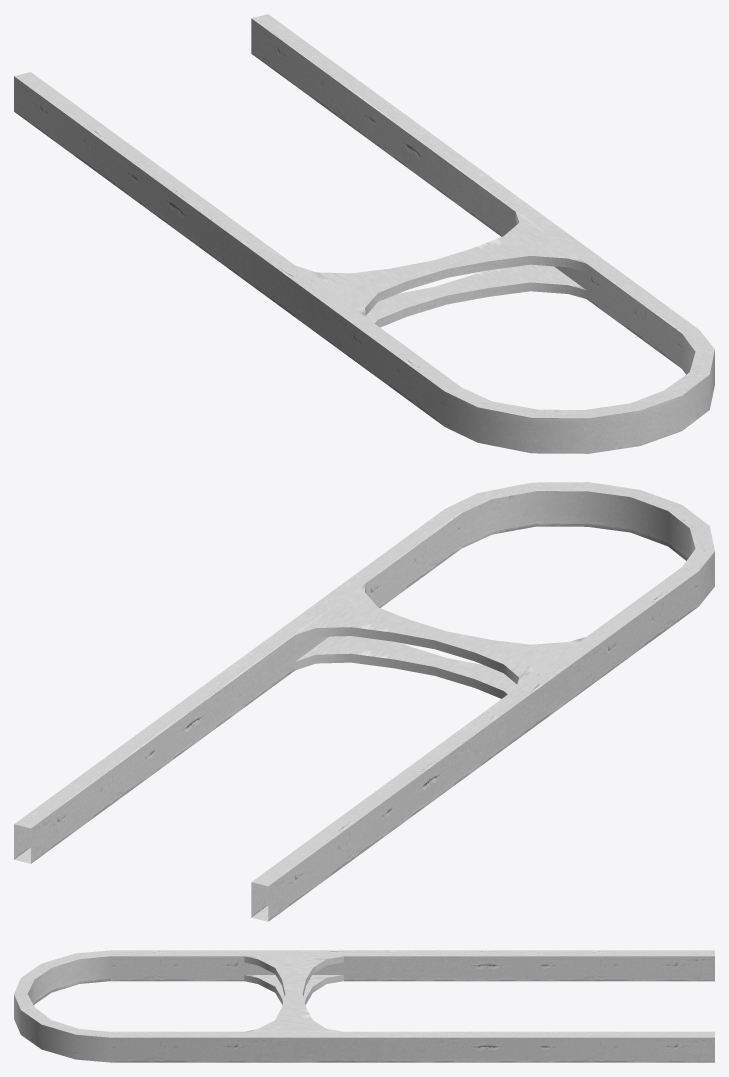
The model's file is nt_2020_vista_sign_01_LOD0.obj.
3 renders of one model, top to bottom at view 1: azimuth 30°, elevation 25°; view 2: azimuth 150°, elevation 25°; view 3: azimuth 270°, elevation 25°, orthographic. The views are drawn at different scales.
Parts seen in each view (by area): view 1: us_art_wall_vinylsiding_white; view 2: us_art_wall_vinylsiding_white; view 3: us_art_wall_vinylsiding_white.
Boxes of the visible parts, x1=… form: us_art_wall_vinylsiding_white: x1=14, y1=14, x2=714, y2=453; us_art_wall_vinylsiding_white: x1=14, y1=482, x2=714, y2=921; us_art_wall_vinylsiding_white: x1=14, y1=950, x2=714, y2=1062.
Bounding box in the file's own units: 152 × 20.32 × 518.
